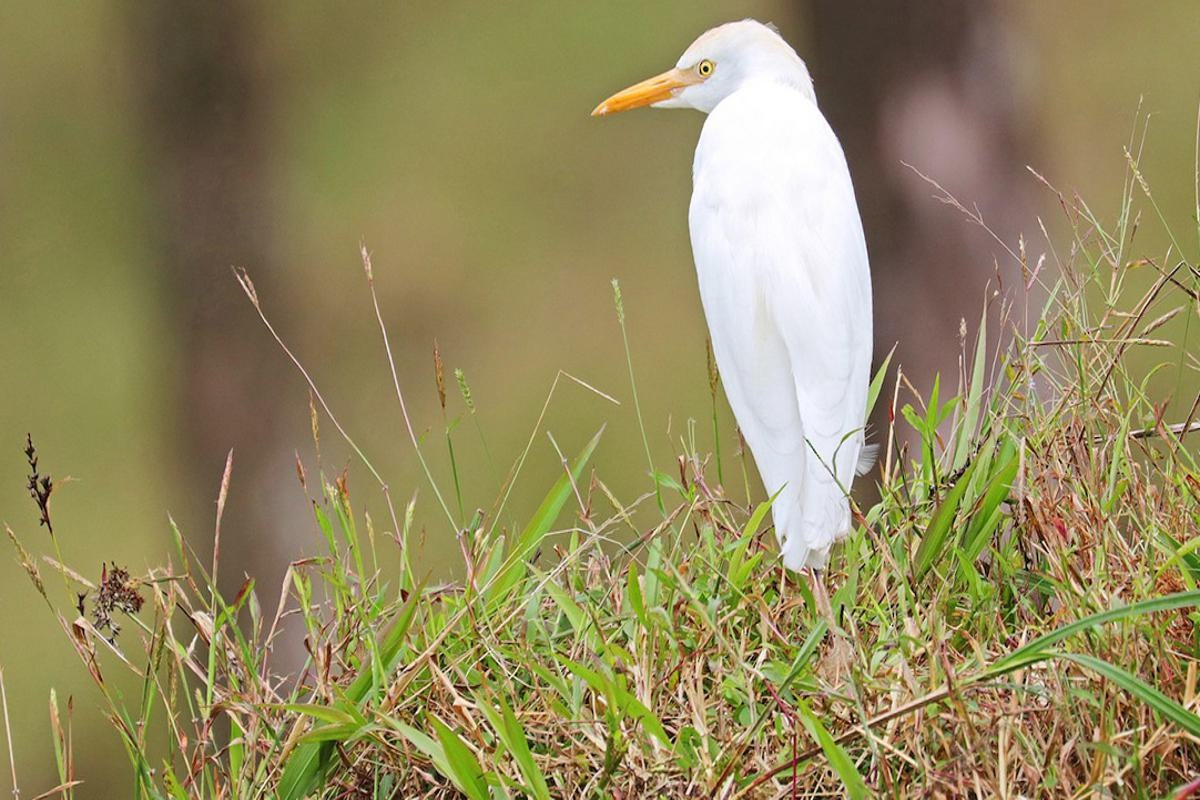egret: (596, 15, 921, 567)
